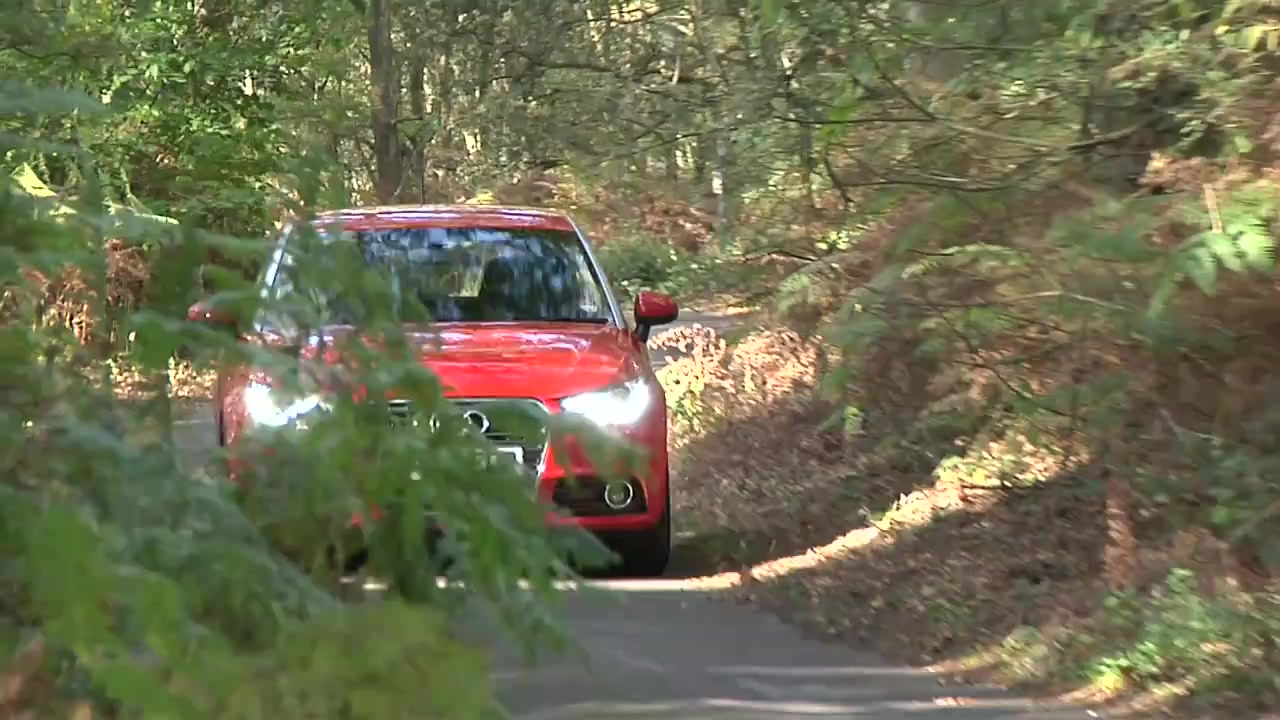car: (188, 207, 687, 587)
